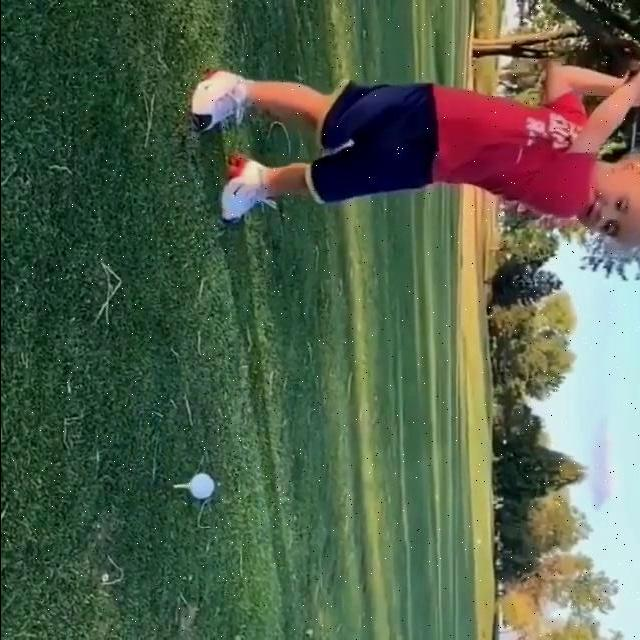golf ball: (187, 472, 213, 499)
golf club-handle: (600, 60, 640, 164)
golf club-head: (599, 147, 630, 164)
